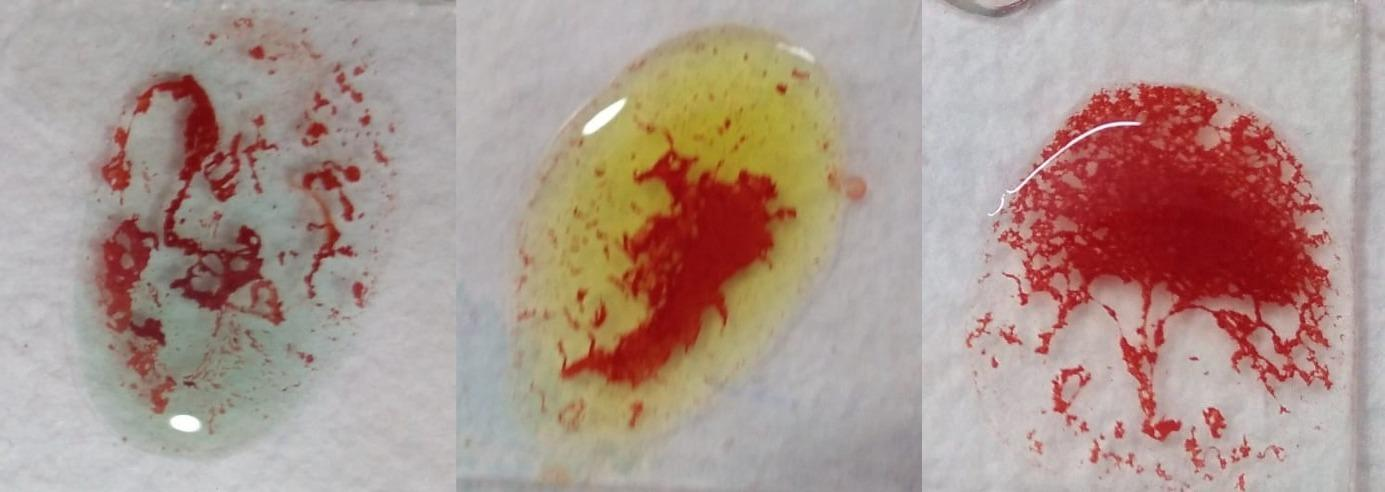A: (78, 6, 395, 444)
B: (516, 27, 840, 437)
D: (976, 78, 1339, 485)
